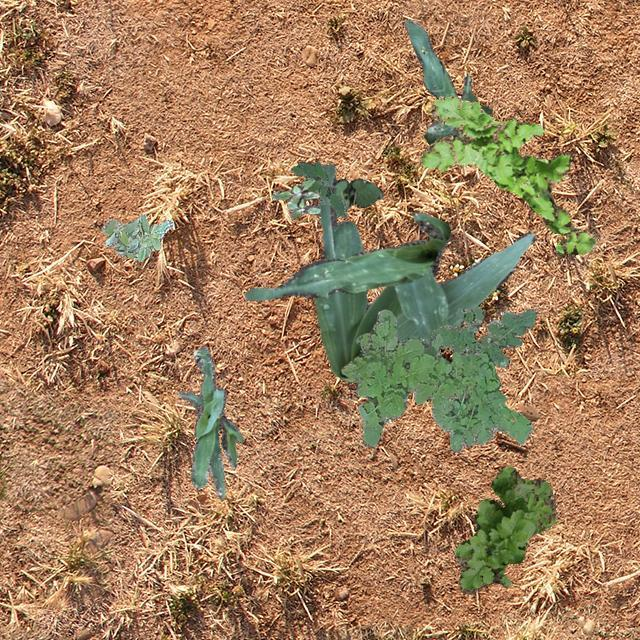crop: (314, 164, 536, 382), (243, 210, 450, 300), (176, 344, 242, 498), (404, 18, 471, 144), (313, 178, 382, 215)
weed: (420, 94, 598, 254), (340, 308, 532, 451), (454, 466, 554, 592), (428, 306, 536, 366), (100, 212, 172, 260), (290, 160, 346, 217), (426, 93, 490, 135), (270, 176, 318, 218)
